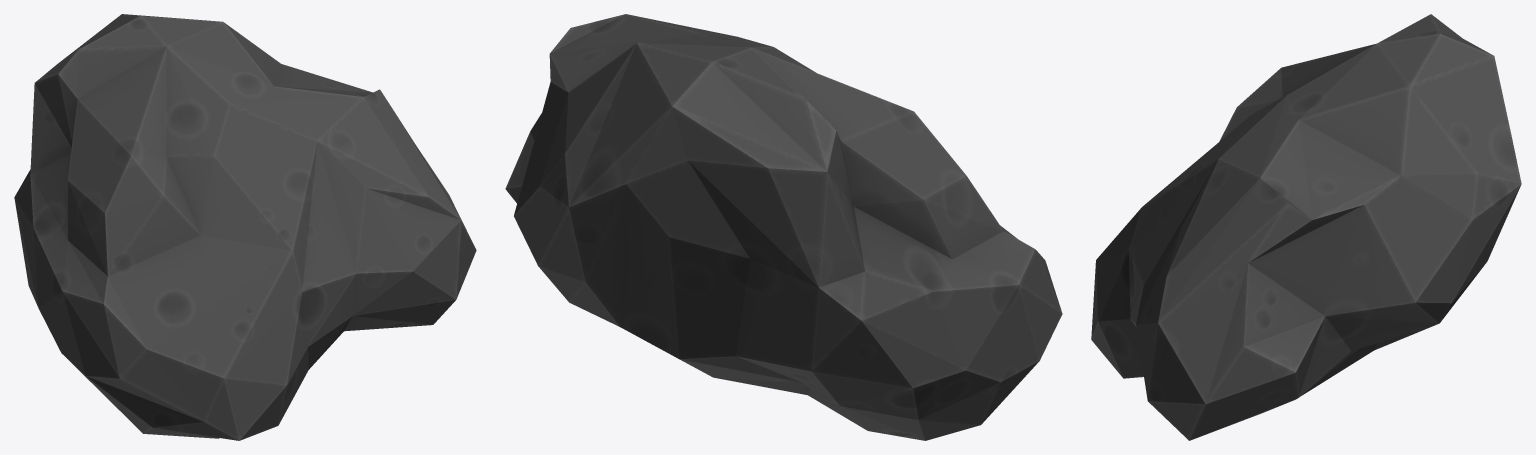
The model's file is asteroid12.glb.
3 renders of one model, left to right at view 1: azimuth 30°, elevation 25°; view 2: azimuth 150°, elevation 25°; view 3: azimuth 270°, elevation 25°, orthographic. The views are drawn at different scales.
Visible parts, largest first — view 1: Asteroids_Mesh.012; view 2: Asteroids_Mesh.012; view 3: Asteroids_Mesh.012.
Part boxes in pixels (<box>): Asteroids_Mesh.012: <box>14,14,476,440</box>; Asteroids_Mesh.012: <box>505,14,1062,440</box>; Asteroids_Mesh.012: <box>1091,14,1521,440</box>.
Size of the model in its own units: 5.73 by 4.79 by 4.91.
Materials: 1 (1 with a texture image).
